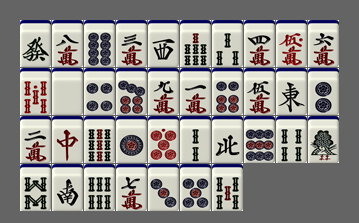0m: (276, 20, 307, 67)
0p: (148, 116, 179, 163)
0s: (20, 68, 51, 115)
1m: (180, 68, 211, 115)
1p: (116, 116, 147, 163)
1s: (308, 116, 339, 163)
1z: (276, 68, 307, 115)
2m: (20, 116, 51, 163)
2p: (308, 68, 339, 115)
2s: (180, 116, 211, 163)
2z: (52, 164, 83, 211)
3m: (116, 20, 147, 67)
3p: (148, 164, 179, 211)
3s: (212, 20, 243, 67)
3z: (148, 20, 179, 67)
4m: (244, 20, 275, 67)
4p: (84, 68, 115, 115)
4s: (276, 116, 307, 163)
4z: (212, 116, 243, 163)
5m: (244, 68, 275, 115)
5p: (180, 164, 211, 211)
5s: (212, 164, 243, 211)
5z: (52, 68, 83, 115)
6m: (308, 20, 339, 67)
6p: (212, 68, 243, 115)
6s: (84, 164, 115, 211)
6z: (20, 20, 51, 67)
7m: (116, 164, 147, 211)
7p: (116, 68, 147, 115)
7s: (180, 20, 211, 67)
7z: (52, 116, 83, 163)
8m: (52, 20, 83, 67)
8p: (84, 20, 115, 67)
8s: (20, 164, 51, 211)
9m: (148, 68, 179, 115)
9p: (244, 116, 275, 163)
9s: (84, 116, 115, 163)
